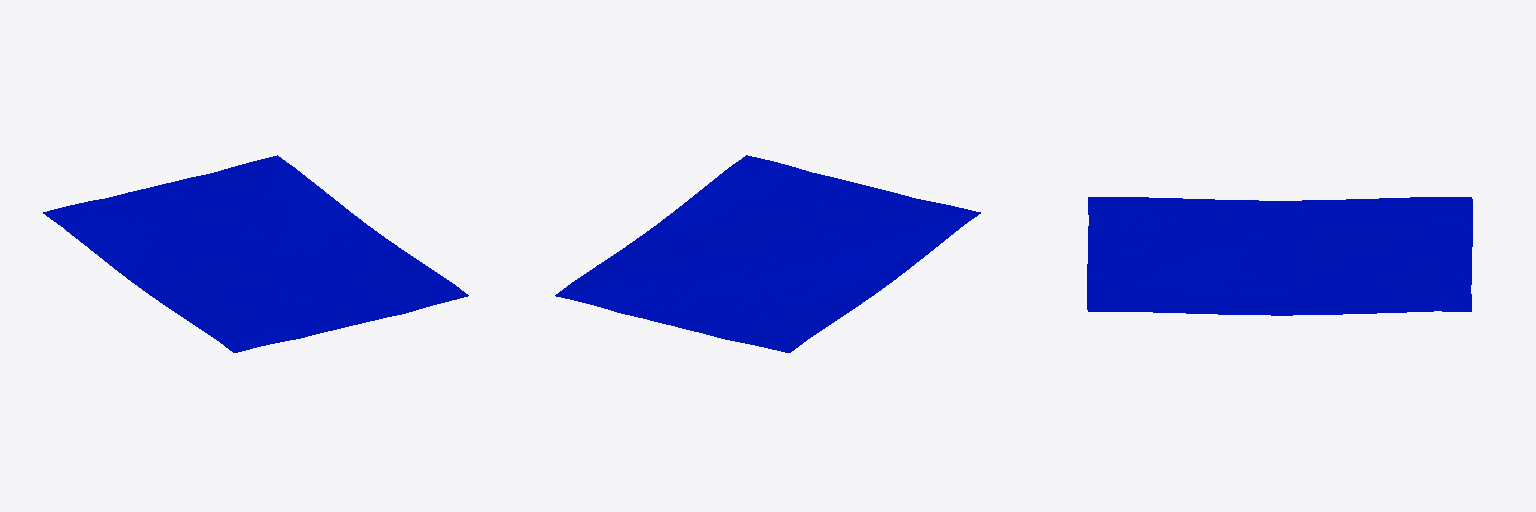
File: background_onigashima_object.obj
The picture shows the model from 3 angles: view 1: azimuth 30°, elevation 25°; view 2: azimuth 150°, elevation 25°; view 3: azimuth 270°, elevation 25°; orthographic projection.
Parts seen in each view (by area): view 1: 平面; view 2: 平面; view 3: 平面.
Part boxes in pixels (bbox=[...]): 平面: bbox=[43, 155, 468, 352]; 平面: bbox=[555, 155, 980, 352]; 平面: bbox=[1087, 197, 1472, 315].
Size of the model in its own units: 25.74 by 0.5546 by 36.56.